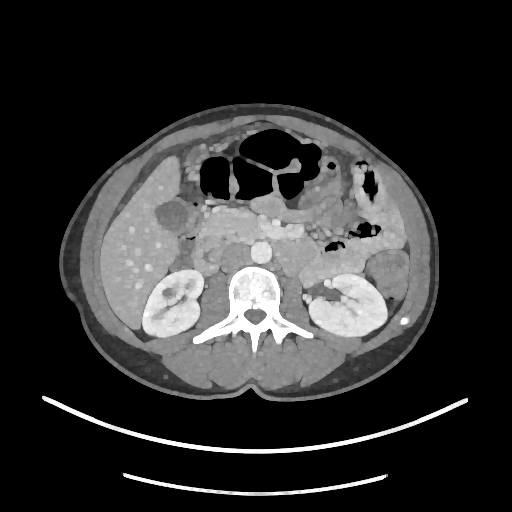Lesion: (156, 284, 182, 304)
